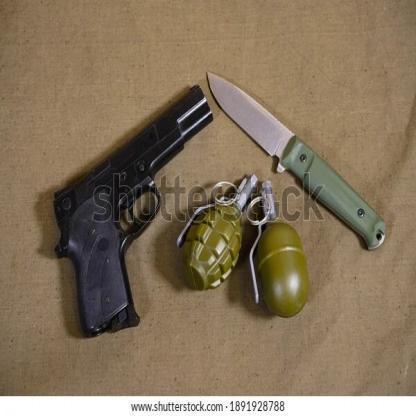Grenade: (175, 172, 258, 293), (246, 180, 311, 319)
Knife: (206, 70, 388, 252)
Pistol: (50, 83, 215, 339)
